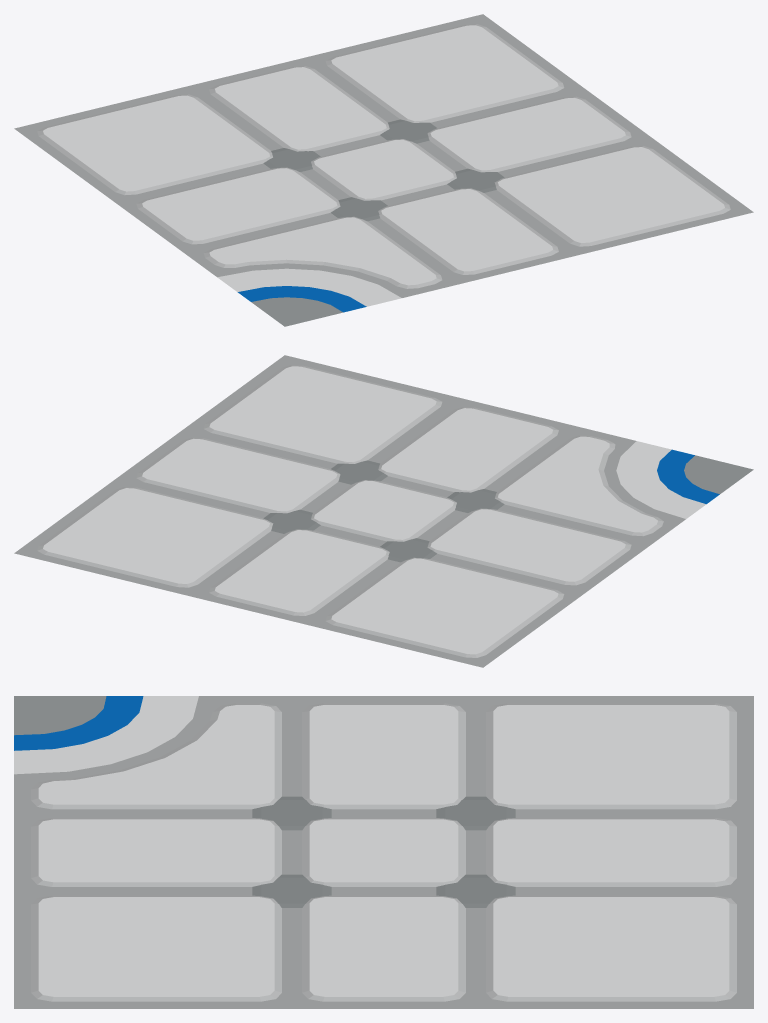
The model's file is Floor_type_A_018.fbx.
3 renders of one model, top to bottom at view 1: azimuth 30°, elevation 25°; view 2: azimuth 150°, elevation 25°; view 3: azimuth 270°, elevation 25°, orthographic. The views are drawn at different scales.
Visible parts, largest first — view 1: Floor_type_A_018; view 2: Floor_type_A_018; view 3: Floor_type_A_018.
Part boxes in pixels (x1,y1,x2,y2): Floor_type_A_018: (14,14,753,326); Floor_type_A_018: (14,355,753,667); Floor_type_A_018: (14,696,753,1008).
Bounding box in the file's own units: 400 × 400 × 1.34.
